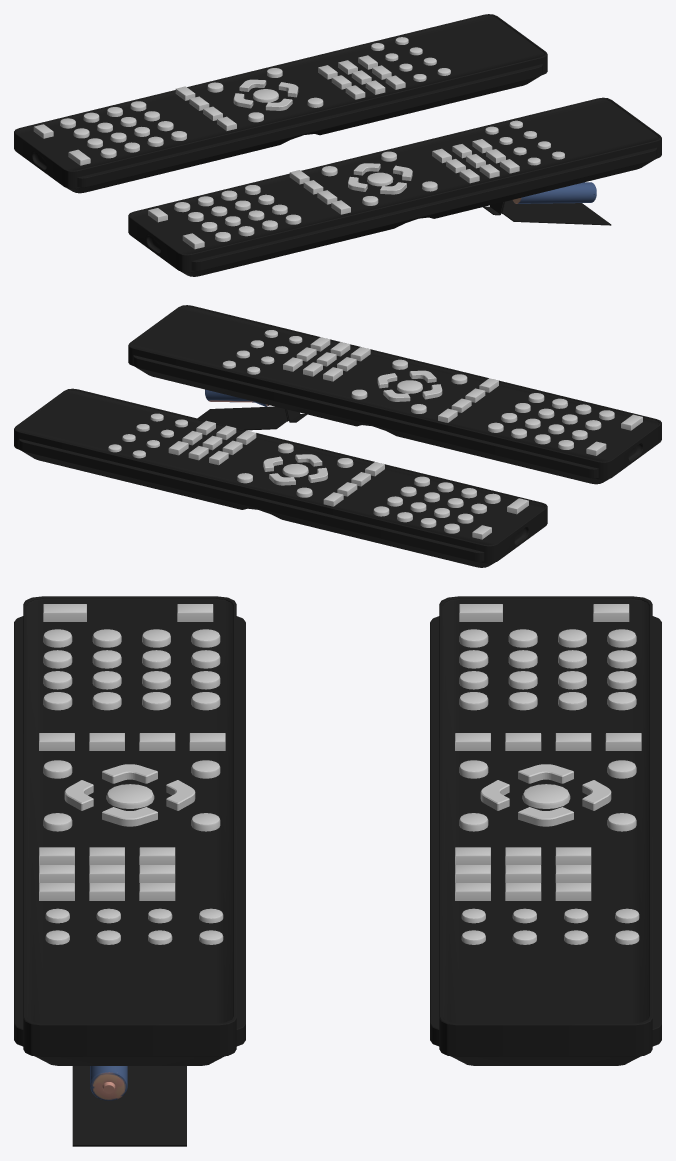
File: TVControl.fbx
The picture shows the model from 3 angles, top to bottom: view 1: azimuth 30°, elevation 25°; view 2: azimuth 150°, elevation 25°; view 3: azimuth 270°, elevation 25°; orthographic projection. The views are drawn at different scales.
Visible parts, largest first — view 1: Cube.005, Cube.007, Circle.010, Circle.007, Cube.008, Cylinder.002; view 2: Cube.005, Cube.007, Circle.010, Circle.007, Cube.008; view 3: Cube.007, Cube.005, Circle.010, Circle.007, Cube.008, Cylinder.002.
Boxes of the visible parts, x1,y1,x2,y2 form: Cube.005: (14,14,547,193); Cube.007: (128,97,661,276); Circle.010: (33,37,450,165); Circle.007: (148,120,564,249); Cube.008: (483,200,611,225); Cylinder.002: (512,182,596,203); Cube.005: (14,388,547,567); Cube.007: (128,305,661,484); Circle.010: (108,413,528,539); Circle.007: (222,330,642,455); Cube.008: (197,406,306,430); Cube.007: (14,596,245,1065); Cube.005: (430,596,661,1065); Circle.010: (455,604,641,944); Circle.007: (39,604,225,944); Cube.008: (72,1066,186,1146); Cylinder.002: (90,1066,127,1100).
Size of the model in its own units: 423 by 76.23 by 270.
